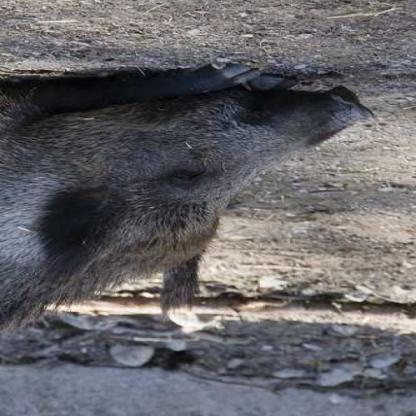boar: (0, 46, 378, 376)
